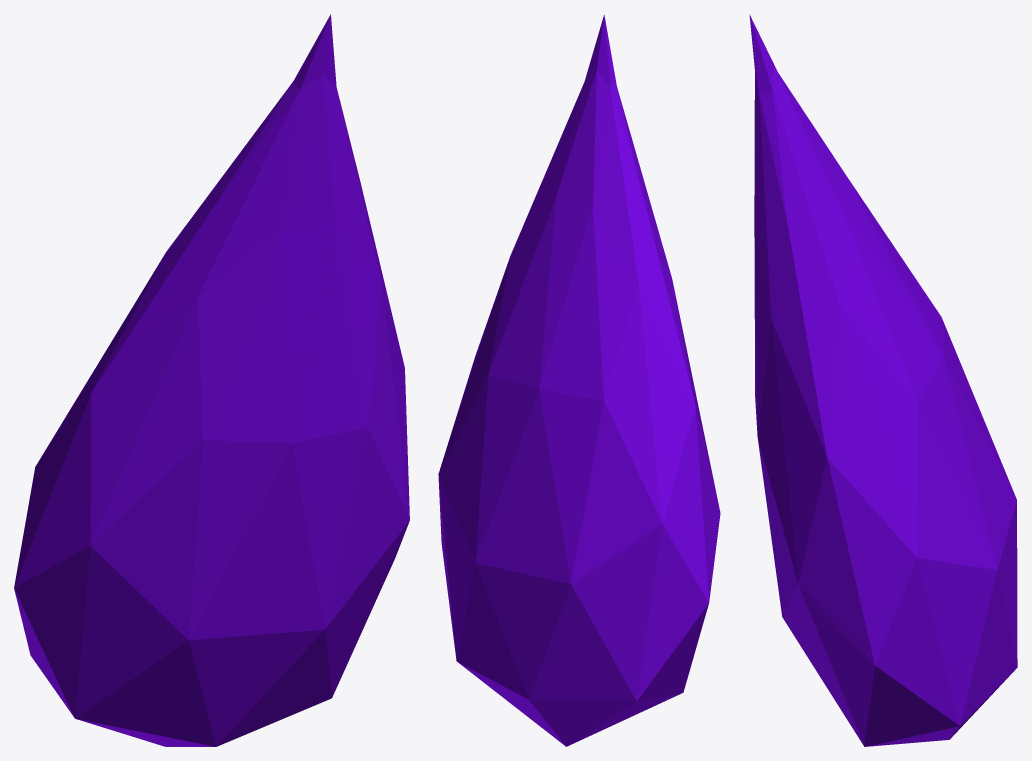
The model's file is visual-diamond-3.glb.
3 renders of one model, left to right at view 1: azimuth 30°, elevation 25°; view 2: azimuth 150°, elevation 25°; view 3: azimuth 270°, elevation 25°, orthographic. The views are drawn at different scales.
Visible parts, largest first — view 1: 球体.087; view 2: 球体.087; view 3: 球体.087.
Part boxes in pixels (x1=…): 球体.087: x1=14, y1=14, x2=409, y2=746; 球体.087: x1=438, y1=15, x2=720, y2=746; 球体.087: x1=749, y1=14, x2=1017, y2=746.
Bounding box in the file's own units: 0.774 × 1.67 × 0.538.
